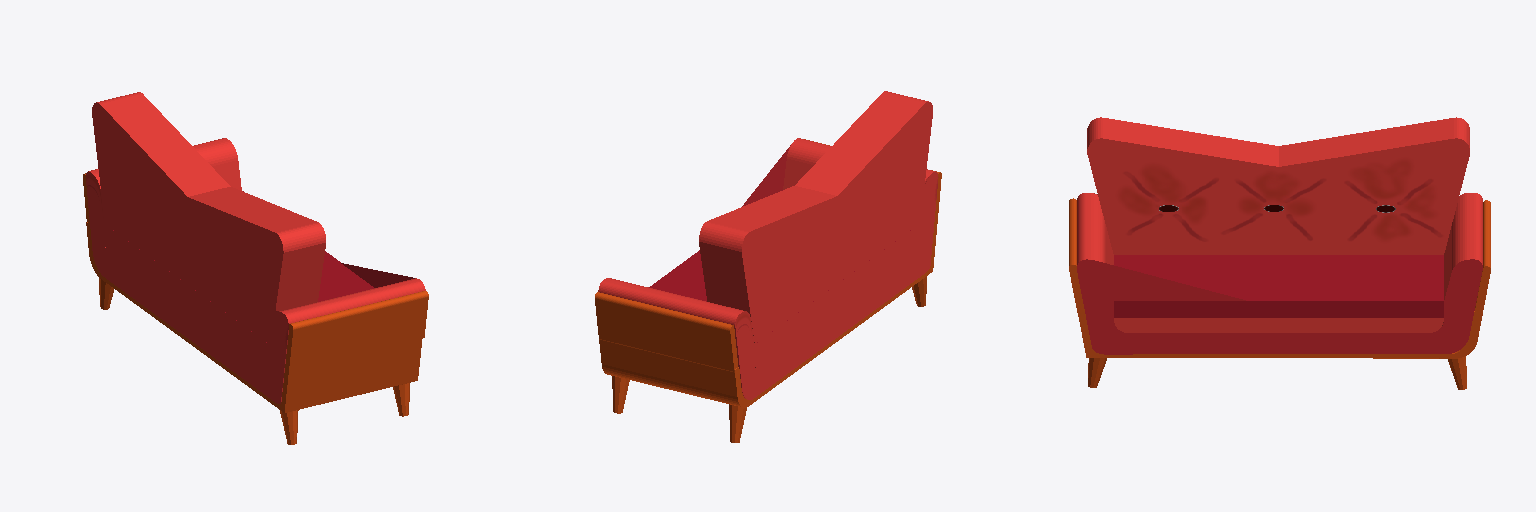
The picture shows the model from 3 angles: view 1: azimuth 30°, elevation 25°; view 2: azimuth 150°, elevation 25°; view 3: azimuth 270°, elevation 25°; orthographic projection.
Visible parts, largest first — view 1: pCube46; view 2: pCube46; view 3: pCube46.
Part boxes in pixels (left/top/right/bottom): pCube46: left=83, top=92, right=428, bottom=444; pCube46: left=595, top=91, right=941, bottom=442; pCube46: left=1069, top=117, right=1490, bottom=389.
Size of the model in its own units: 5 by 7.27 by 13.25.
13 materials, 6 textured.